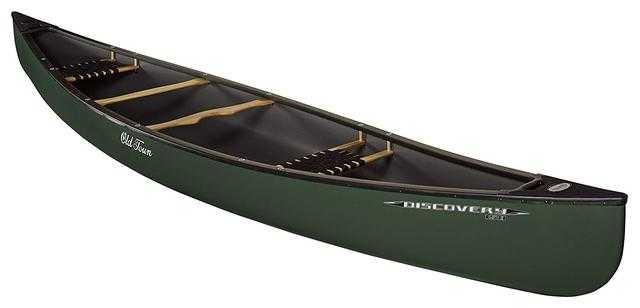kayak: (3, 18, 637, 297)
